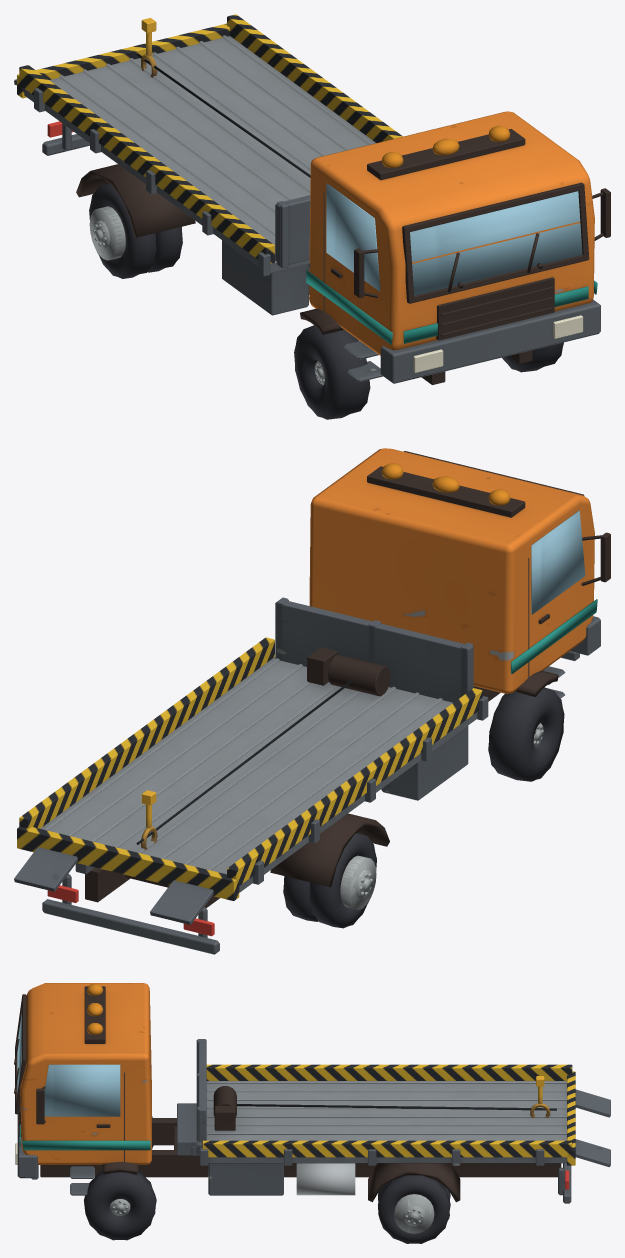
The model's file is Works_TowTruck.fbx.
3 renders of one model, top to bottom at view 1: azimuth 30°, elevation 25°; view 2: azimuth 150°, elevation 25°; view 3: azimuth 270°, elevation 25°, orthographic. The views are drawn at different scales.
Parts seen in each view (by area): view 1: Body, Bed, Wheel_1, Wheel_3, Wheel_0, Hook; view 2: Bed, Body, Wheel_1, Wheel_3; view 3: Bed, Body, Wheel_2, Wheel_0.
Part boxes in pixels (x1,y1,x2,y2): Body: (42, 111, 610, 384); Bed: (14, 14, 402, 276); Wheel_1: (294, 325, 370, 419); Wheel_3: (89, 183, 182, 278); Wheel_0: (502, 342, 563, 372); Hook: (141, 17, 157, 77); Bed: (14, 597, 488, 924); Body: (42, 448, 610, 954); Wheel_1: (488, 687, 564, 781); Wheel_3: (283, 832, 376, 928); Bed: (196, 1039, 610, 1166); Body: (14, 983, 571, 1203); Wheel_2: (378, 1175, 450, 1243); Wheel_0: (84, 1171, 156, 1240).
Bounding box in the file's own units: 2.79 × 2.59 × 7.11.
Materials: 1 (1 with a texture image).
